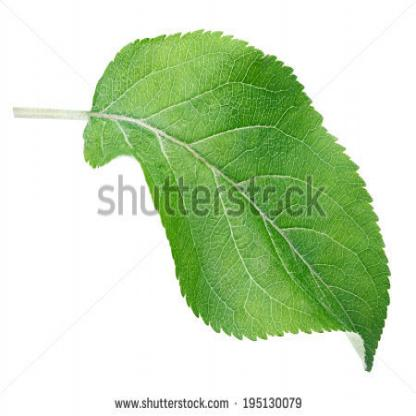Apple leaf: (80, 31, 402, 388)
